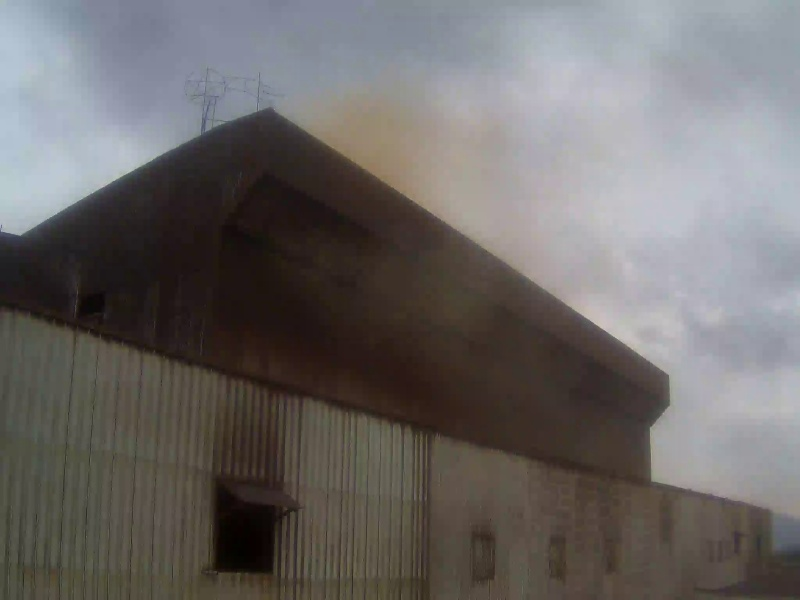ruim: (327, 70, 611, 328)
